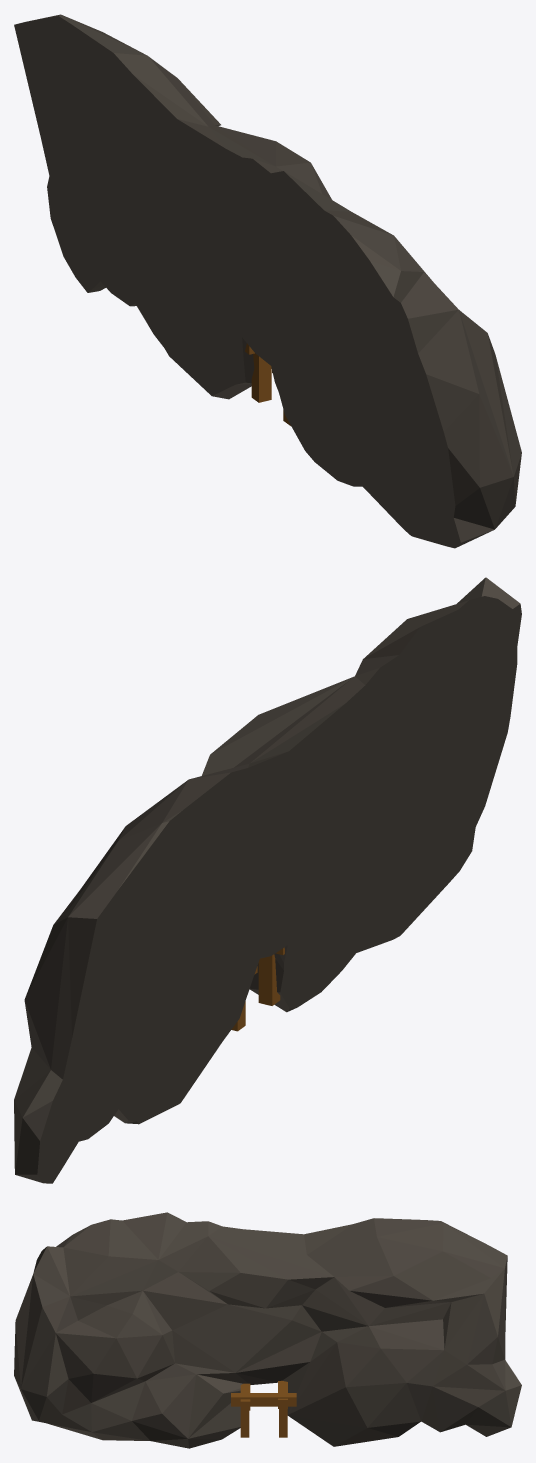
The model's file is Mineneingang.fbx.
3 views of the same model, one above another, from view 1: azimuth 30°, elevation 25°; view 2: azimuth 150°, elevation 25°; view 3: azimuth 270°, elevation 25° (orthographic). The views are drawn at different scales.
Parts seen in each view (by area): view 1: MinenEingang; view 2: MinenEingang; view 3: MinenEingang.
Part boxes in pixels (box(x1,y1,x2,y2)): MinenEingang: box(14, 14, 521, 548); MinenEingang: box(14, 577, 521, 1183); MinenEingang: box(14, 1212, 521, 1448).
Bounding box in the file's own units: 895 × 2122 × 4650.
